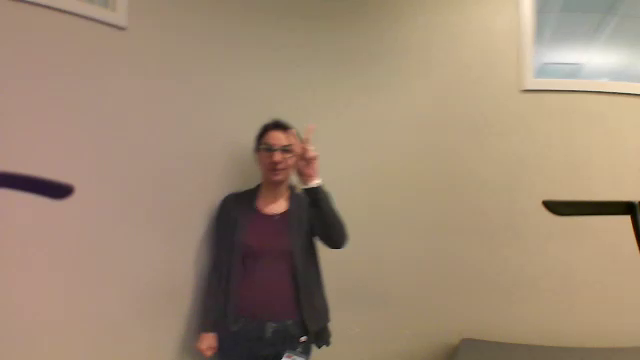peace: (285, 121, 325, 175)
